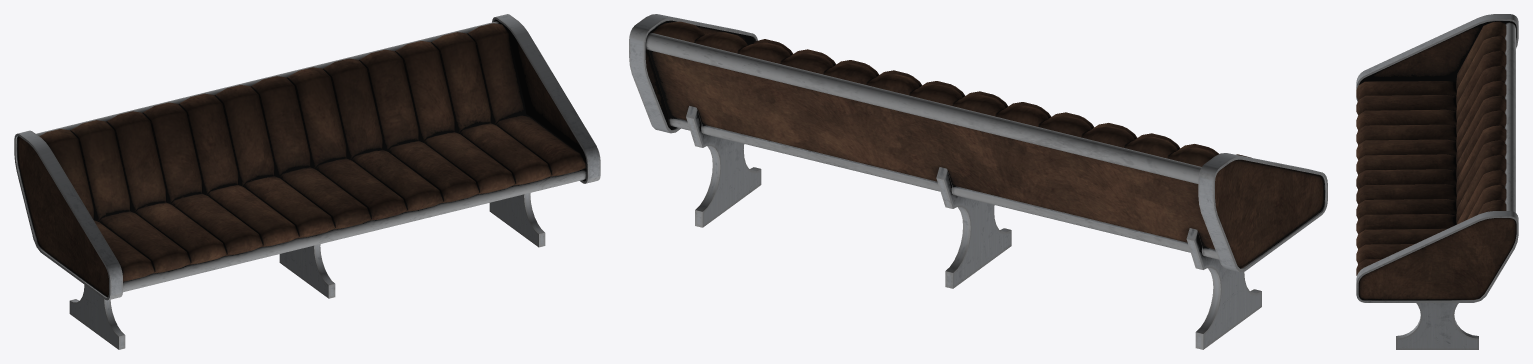
File: sofa.fbx
3 renders of one model, left to right at view 1: azimuth 30°, elevation 25°; view 2: azimuth 150°, elevation 25°; view 3: azimuth 270°, elevation 25°, orthographic. The views are drawn at different scales.
Visible parts, largest first — view 1: obj1; view 2: obj1; view 3: obj1.
Boxes of the visible parts, box(x1,y1,x2,y2) form: obj1: box(14, 14, 600, 349); obj1: box(629, 14, 1327, 349); obj1: box(1356, 14, 1518, 349).
Bounding box in the file's own units: 9055 × 3081 × 3073.
1 material, 1 textured.
